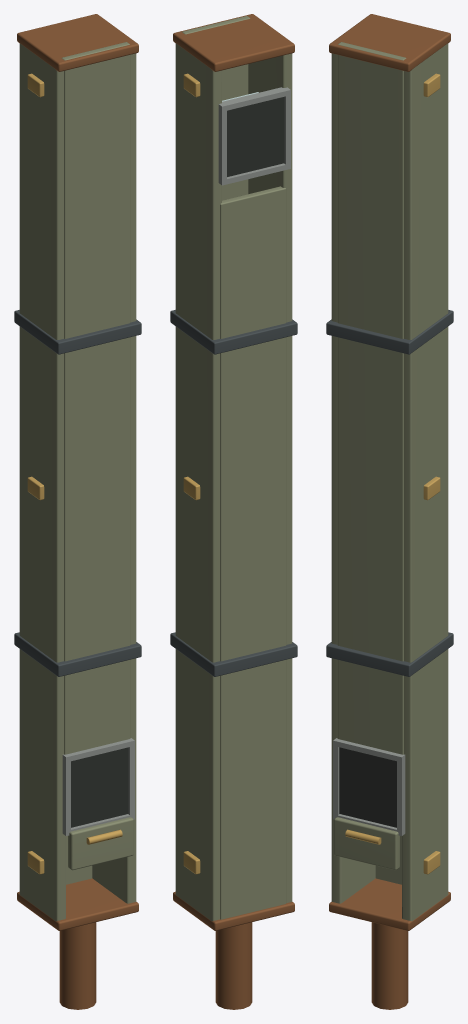
Rendered from wooden_trench_periscope_1917_web.glb.
3 views of the same model, side by side, from view 1: azimuth 30°, elevation 25°; view 2: azimuth 210°, elevation 25°; view 3: azimuth 330°, elevation 25° (orthographic).
Visible parts, largest first — view 1: Olive_Wood, Walnut_Wood, Rubber, Dark_Blued_Steel, Burnished_Steel, Brass; view 2: Olive_Wood, Walnut_Wood, Rubber, Dark_Blued_Steel, Burnished_Steel, Brass; view 3: Olive_Wood, Walnut_Wood, Rubber, Dark_Blued_Steel, Burnished_Steel, Brass.
Part boxes in pixels (x1,y1,x2,y2): Olive_Wood: [19, 42, 136, 921]; Walnut_Wood: [17, 14, 138, 1009]; Rubber: [71, 747, 128, 827]; Dark_Blued_Steel: [14, 310, 141, 676]; Burnished_Steel: [62, 738, 134, 835]; Brass: [27, 73, 122, 874]; Olive_Wood: [175, 16, 292, 921]; Walnut_Wood: [173, 14, 294, 1009]; Rubber: [227, 96, 284, 176]; Dark_Blued_Steel: [170, 310, 297, 676]; Burnished_Steel: [218, 87, 290, 185]; Brass: [183, 73, 200, 874]; Olive_Wood: [331, 42, 448, 921]; Walnut_Wood: [329, 14, 450, 1009]; Rubber: [339, 747, 396, 827]; Dark_Blued_Steel: [326, 310, 453, 676]; Burnished_Steel: [333, 738, 405, 835]; Brass: [345, 73, 440, 874].
Bounding box in the file's own units: 0.162 × 1.68 × 0.16.
